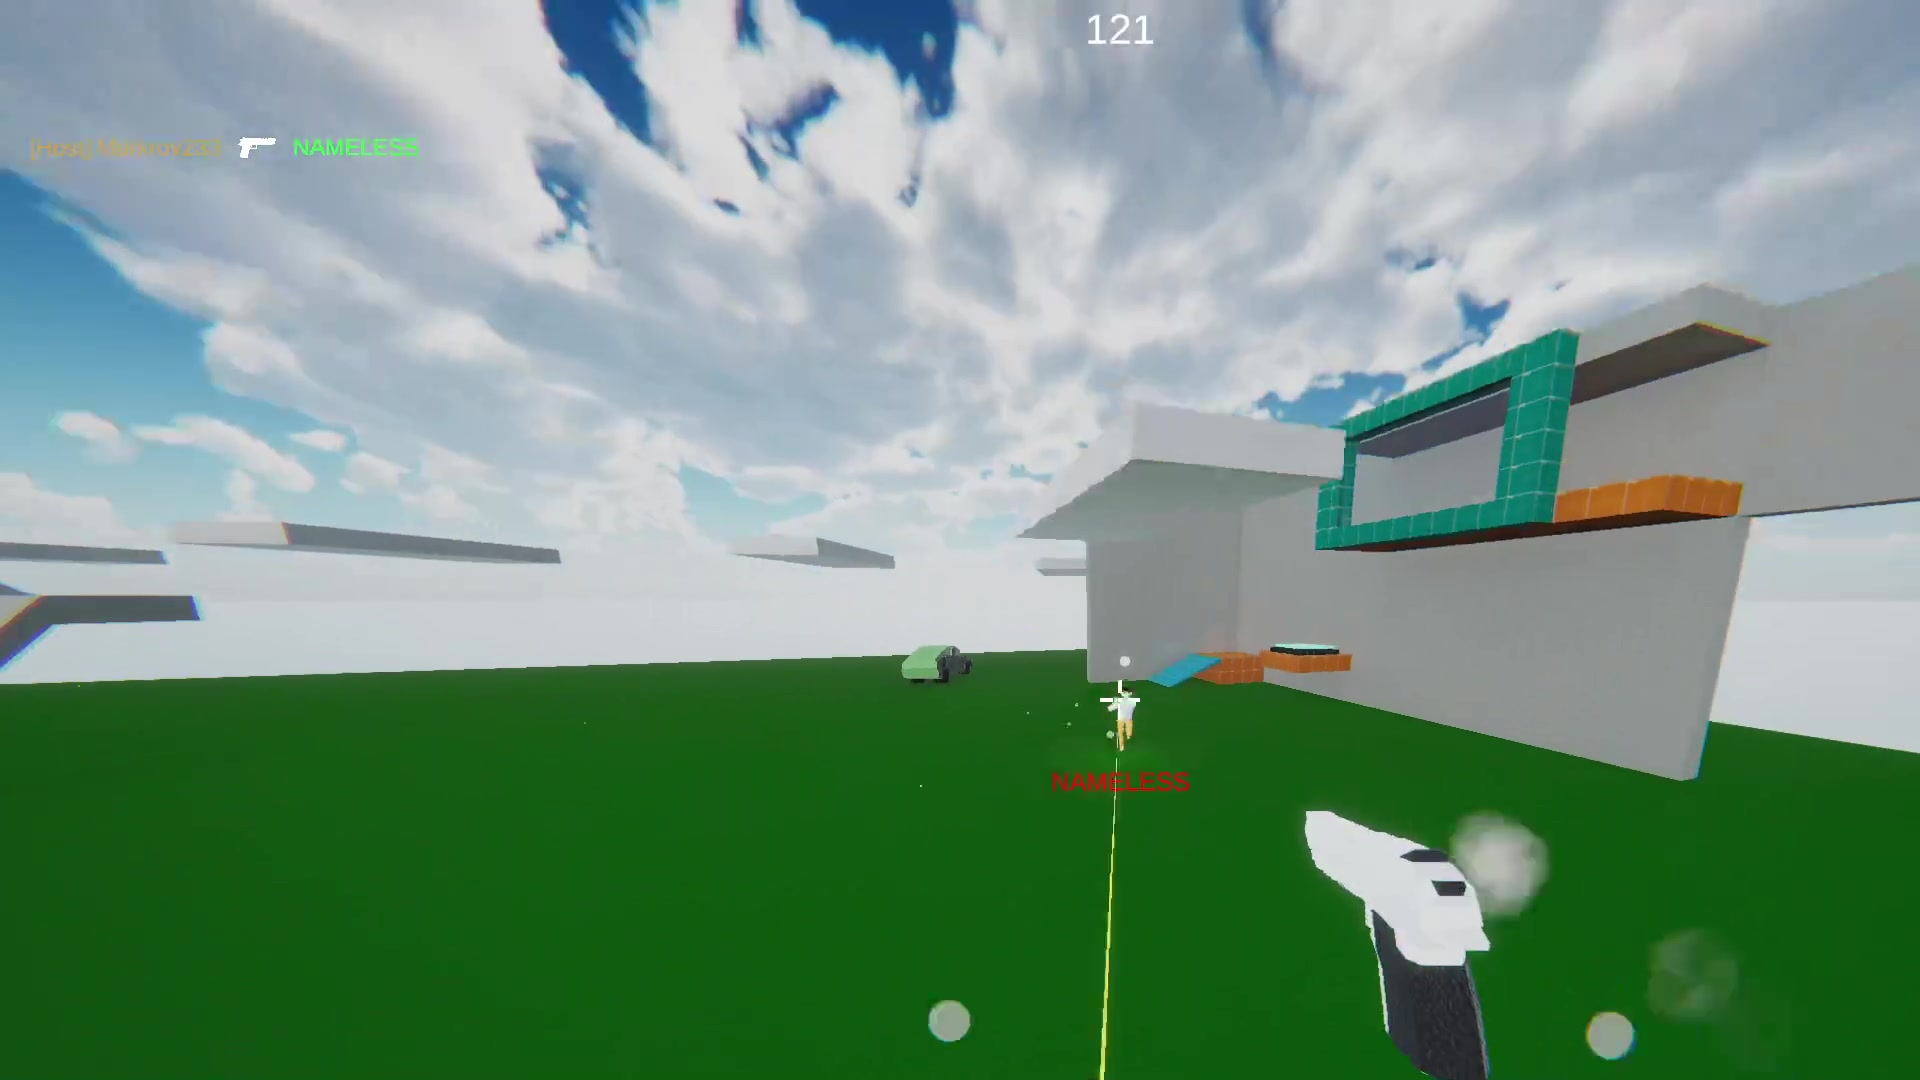human: (1106, 685, 1142, 755)
